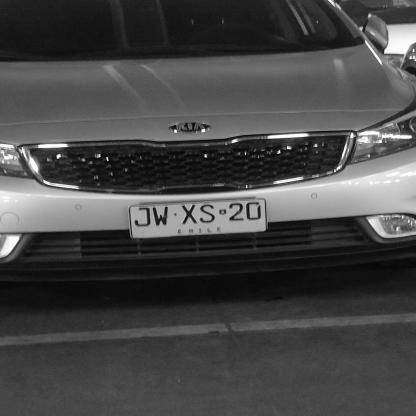Patente: (127, 198, 267, 239)
